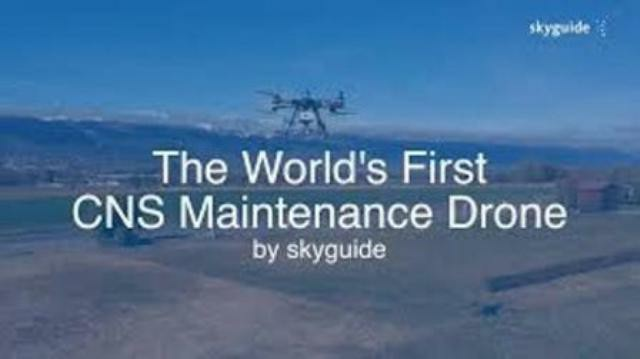maybay_khongnguoilai: (252, 78, 351, 141)
